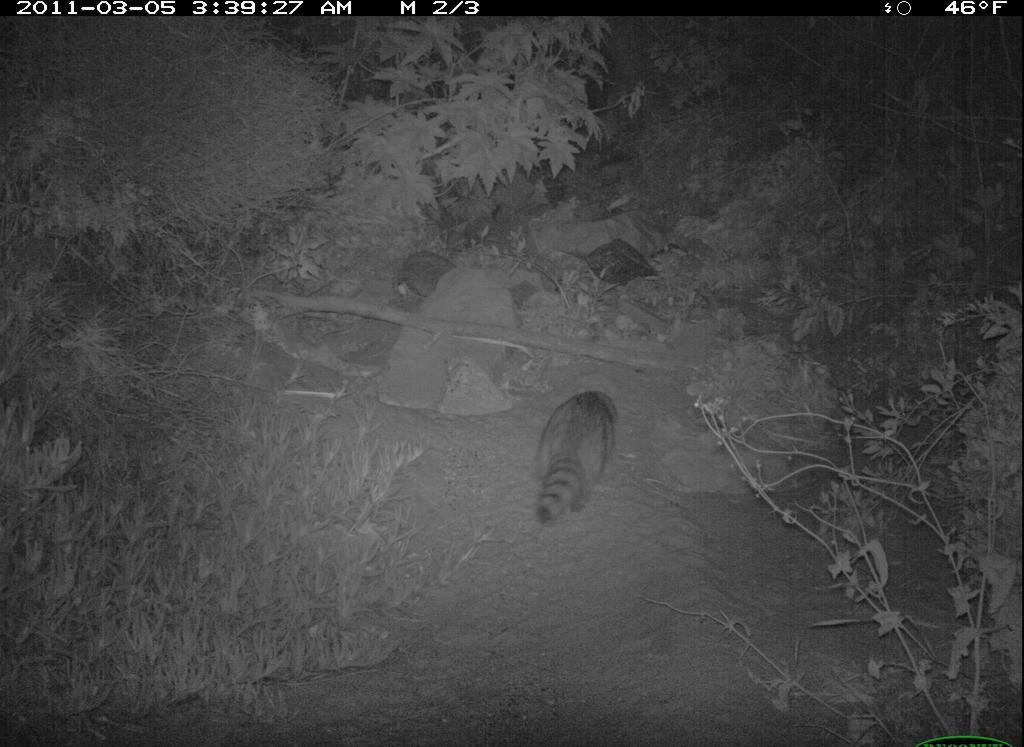raccoon: (533, 381, 625, 536)
